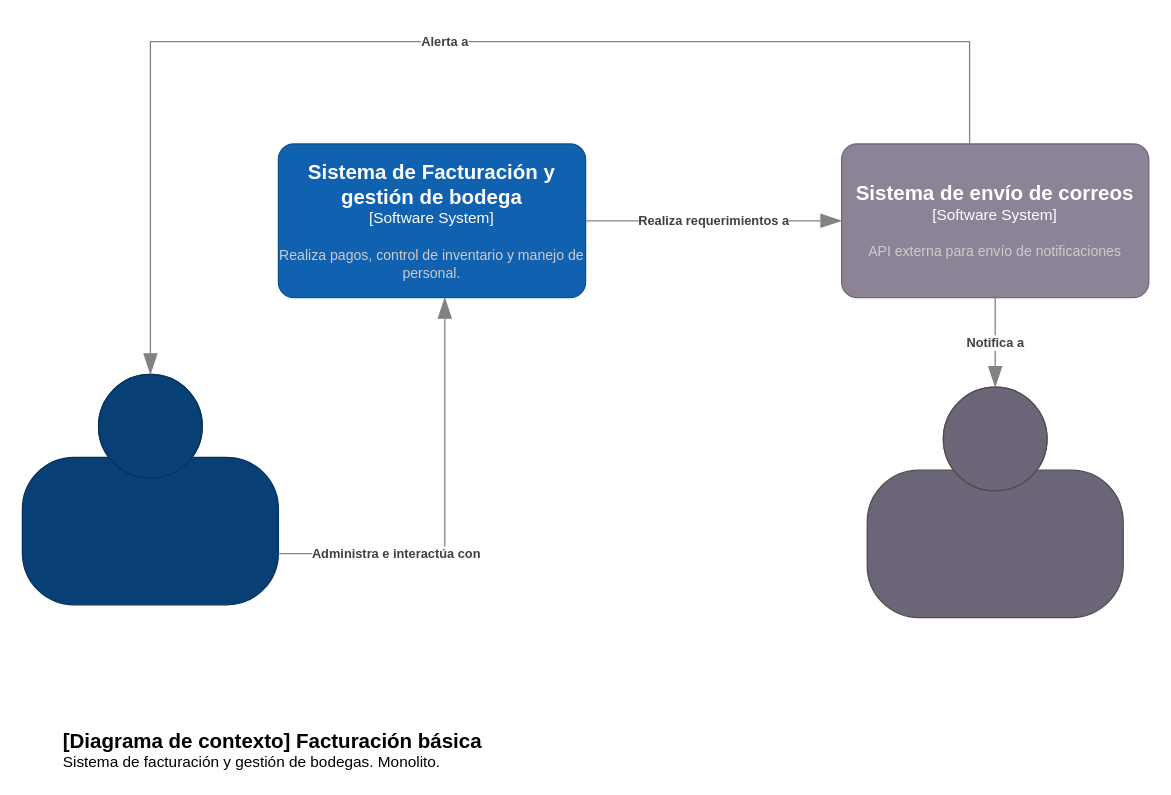
This 1171x795 diagram has some shape labels left out. Each missing label, with the box of its shape:
Cliente [Person] Consumidor: (866, 386, 1123, 618)
Personal Interno [Person] Administrador y Empleado: (21, 373, 278, 605)
